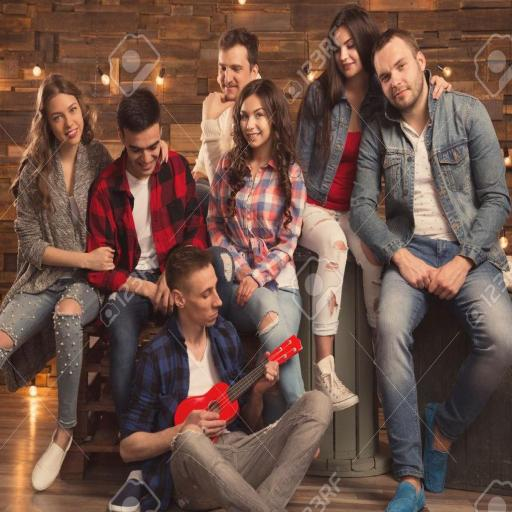person: (351, 29, 511, 511), (121, 247, 332, 511), (0, 74, 113, 490), (88, 89, 206, 419), (297, 6, 384, 410), (208, 80, 305, 352), (193, 28, 260, 217)
